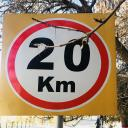speed_limit_20: (4, 16, 113, 114)
